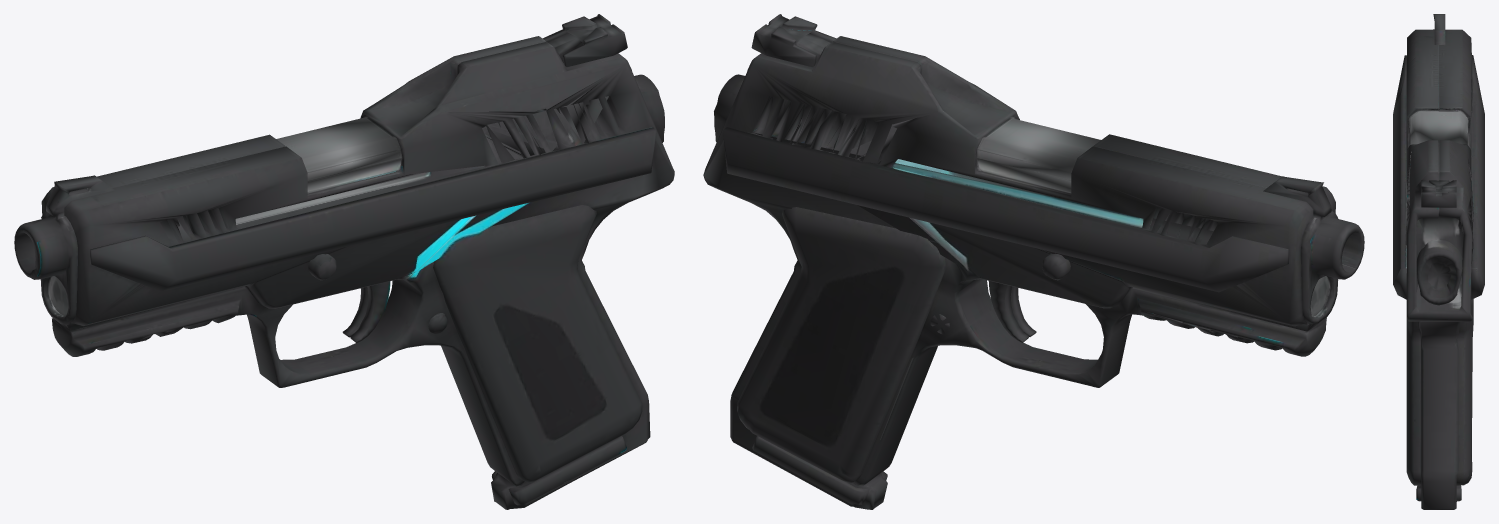
The model's file is w_pistol.glb.
3 views of the same model, side by side, from view 1: azimuth 30°, elevation 25°; view 2: azimuth 150°, elevation 25°; view 3: azimuth 270°, elevation 25° (orthographic). The views are drawn at different scales.
Size of the model in its own units: 0.957 by 0.667 by 0.1645.
1 material, 1 textured.
